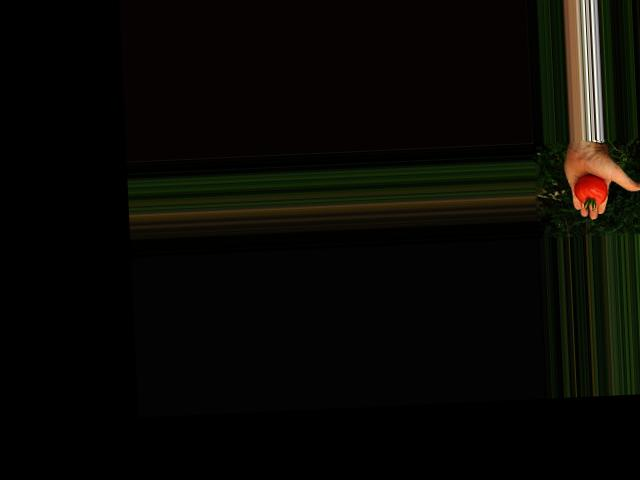tomato: (572, 174, 608, 205)
